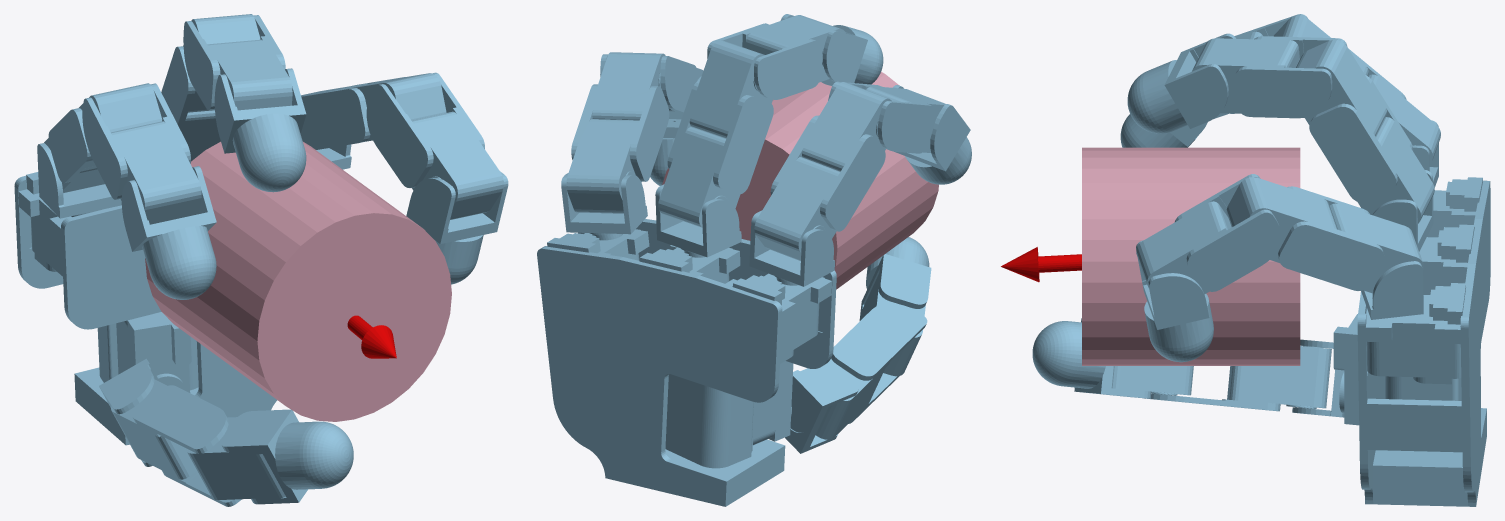
3 renders of one model, left to right at view 1: azimuth 30°, elevation 25°; view 2: azimuth 150°, elevation 25°; view 3: azimuth 270°, elevation 25°, orthographic. The views are drawn at different scales.
Visible parts, largest first — view 1: world, cylinder_medium.stl; view 2: world, cylinder_medium.stl; view 3: world, cylinder_medium.stl.
Part boxes in pixels (<box>): world: <box>14,14,508,506</box>; cylinder_medium.stl: <box>145,141,451,421</box>; world: <box>537,14,971,506</box>; cylinder_medium.stl: <box>662,72,938,289</box>; world: <box>1001,14,1490,506</box>; cylinder_medium.stl: <box>1082,147,1300,365</box>.
Bounding box in the file's own units: 0.1472 × 0.1707 × 0.1796.
